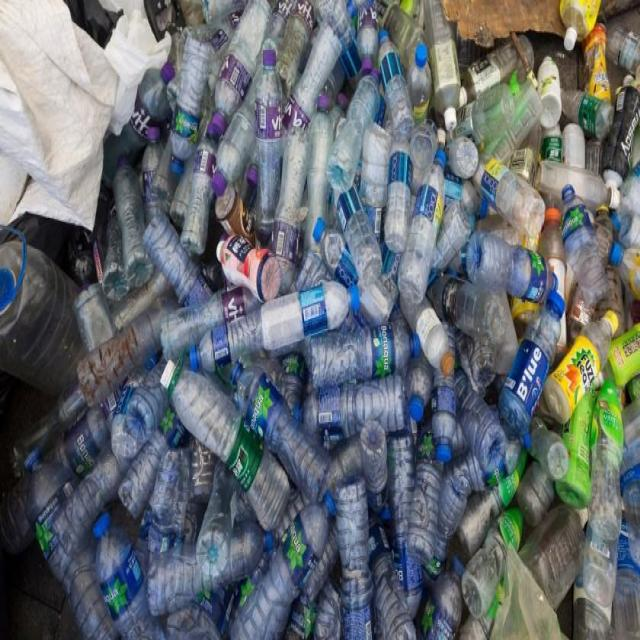heap: (2, 2, 640, 640)
plastic_bottle: (4, 243, 99, 410), (26, 446, 110, 621), (153, 517, 265, 612), (236, 380, 328, 484), (189, 295, 337, 344), (474, 55, 528, 154), (445, 382, 507, 459), (130, 370, 174, 471), (343, 492, 373, 640), (602, 394, 624, 593), (559, 196, 603, 293), (407, 154, 438, 290), (469, 242, 543, 297), (428, 450, 462, 565), (266, 50, 288, 224), (115, 178, 152, 277), (561, 327, 606, 407), (338, 93, 374, 173), (541, 55, 563, 136)
